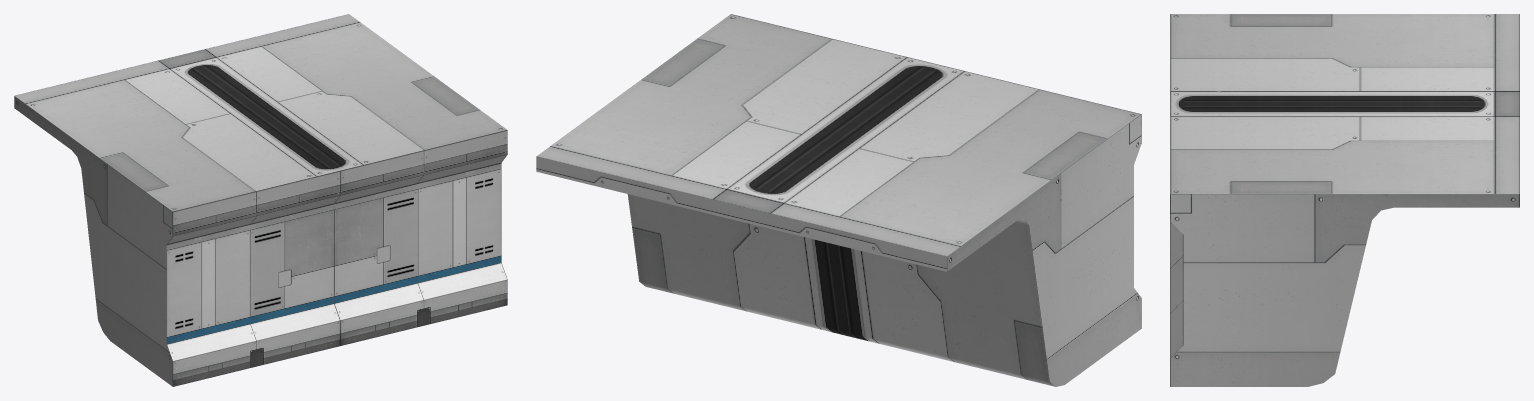
File: Ext_Plateform_Long_02.FBX
3 views of the same model, side by side, from view 1: azimuth 30°, elevation 25°; view 2: azimuth 150°, elevation 25°; view 3: azimuth 270°, elevation 25° (orthographic). The views are drawn at different scales.
Parts seen in each view (by area): view 1: Ext_Plateform_Long_02; view 2: Ext_Plateform_Long_02; view 3: Ext_Plateform_Long_02.
Boxes of the visible parts, x1,y1,x2,y2 form: Ext_Plateform_Long_02: [14, 14, 507, 386]; Ext_Plateform_Long_02: [536, 14, 1141, 386]; Ext_Plateform_Long_02: [1170, 14, 1519, 386].
Bounding box in the file's own units: 280 × 140 × 230.
